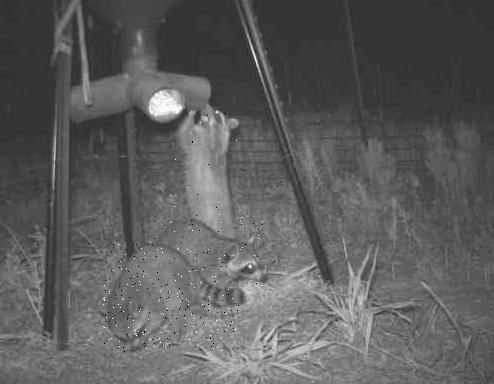Raccoon: (102, 242, 242, 353), (168, 107, 244, 237), (148, 218, 263, 291)
